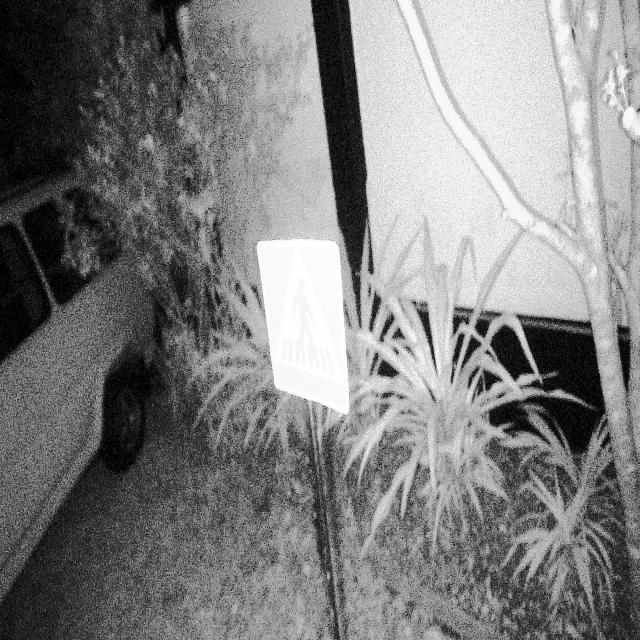Sign: (256, 236, 351, 416)
